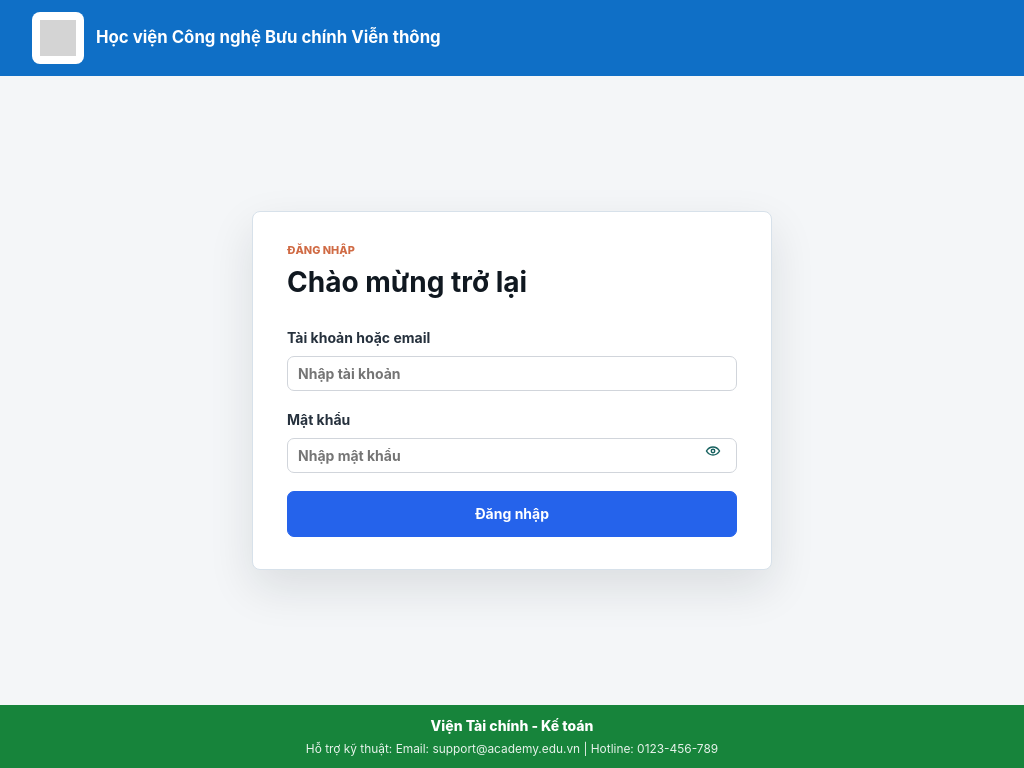
Test: LoginPage › failed login clears the password field, keeps identifier, hides password, and focuses password input
Type "ue2e_student_owner" into the field labelled "Tài khoản hoặc email".
click(512, 373); type("ue2e_student_owner")  # box [287,356,737,391]
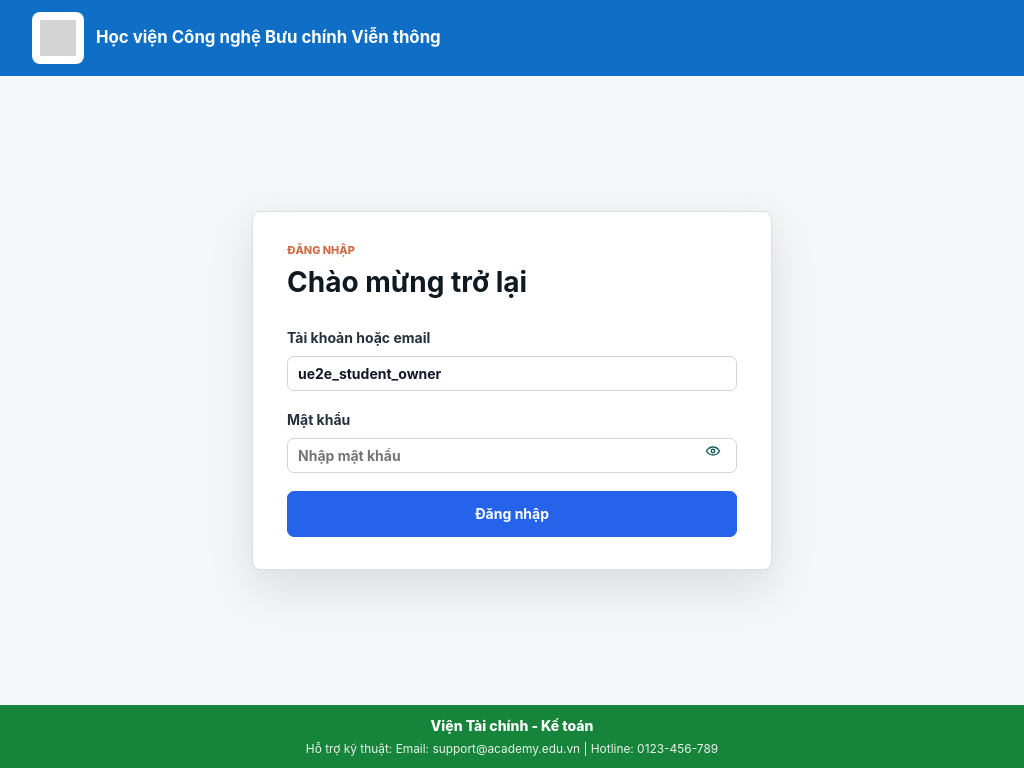
Type "wrong-password" into the password field labelled "Mật khẩu".
click(512, 455); type("wrong-password")  # box [287,438,737,473]
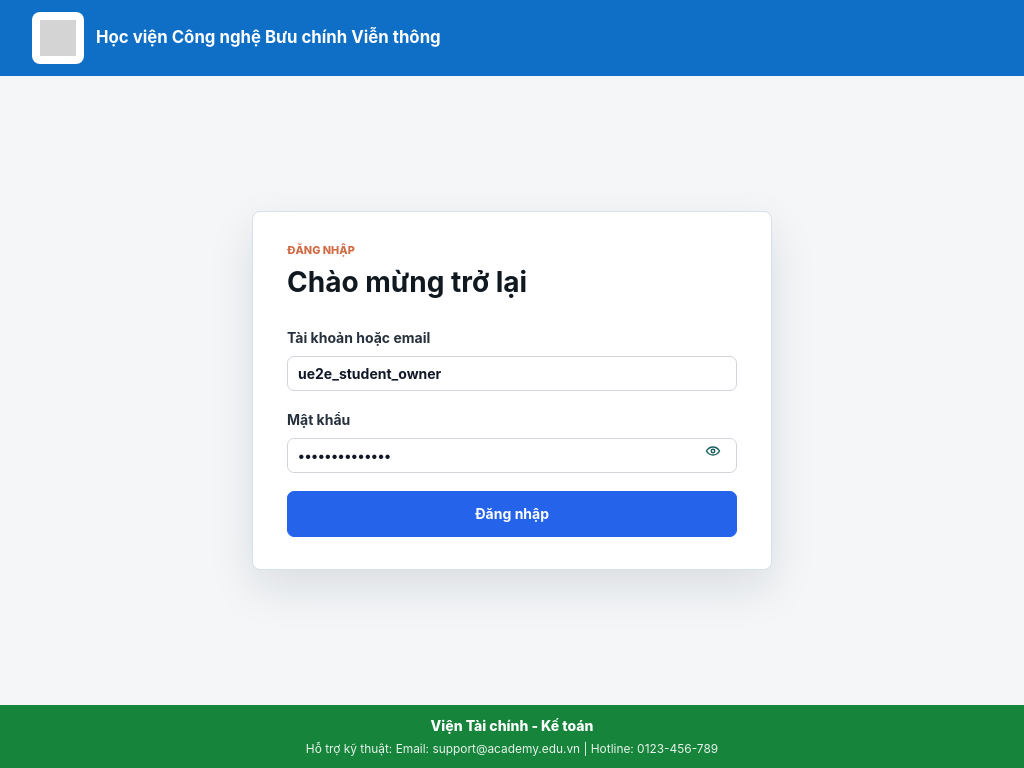
Click the button named "hiện mật khẩu".
click(713, 451)  # box [695,433,731,469]
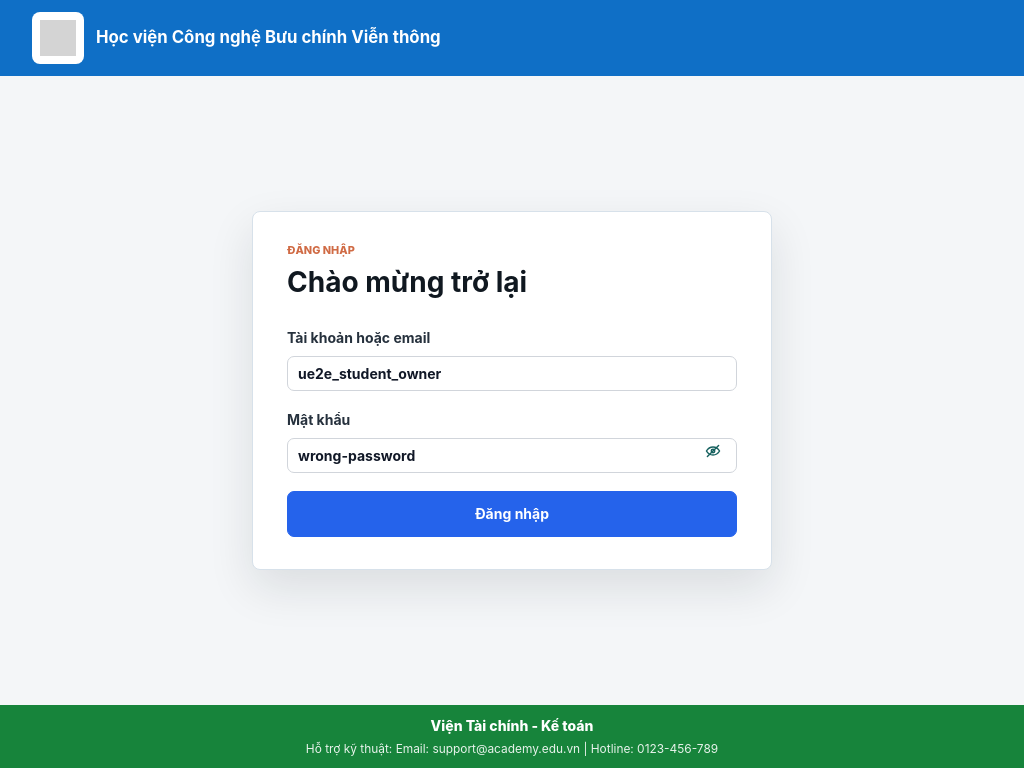
expect the field labelled "Mật khẩu" shows its text: met, box [287,438,737,473]
Click the button "Đăng nhập".
click(512, 514)  # box [287,491,737,537]
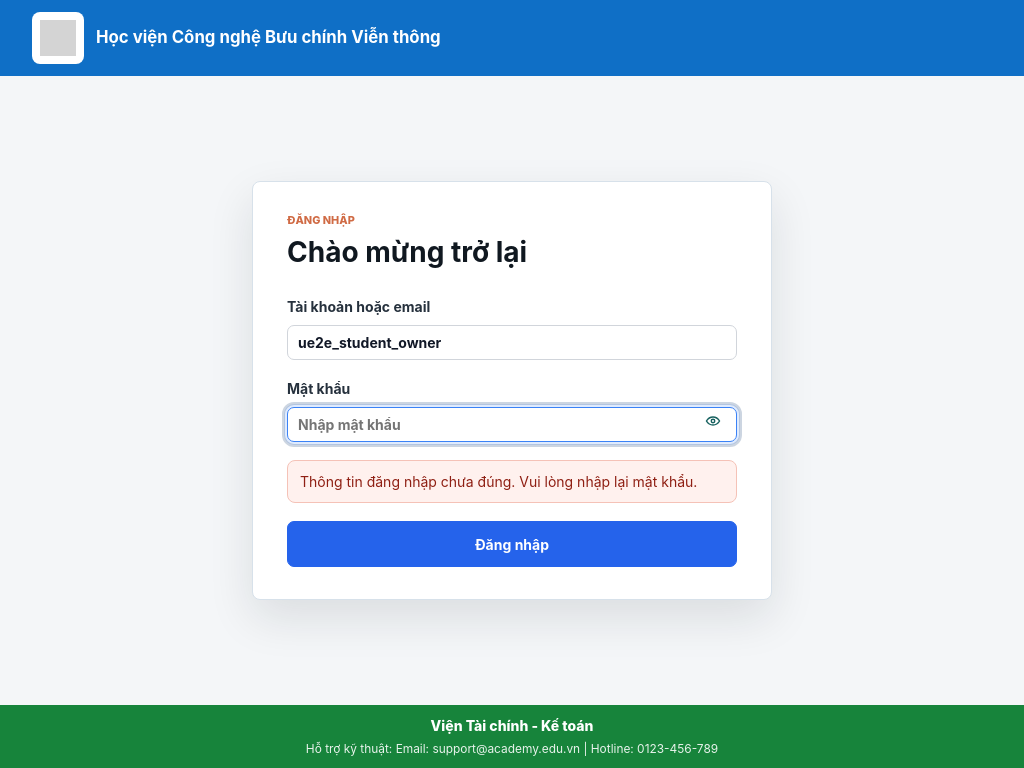
expect the message "Thông tin đăng nhập chưa đúng. Vui lòng nhập lại mật khẩu." is shown: met, box [287,460,737,503]
expect the password field labelled "Mật khẩu" is empty: met, box [287,407,737,442]
